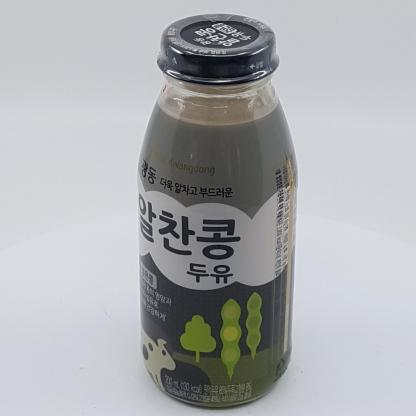--------200ML: (136, 13, 298, 407)
